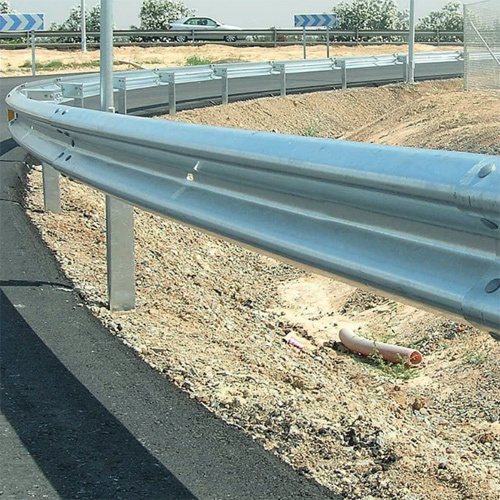not_damaged: (22, 90, 500, 284)
